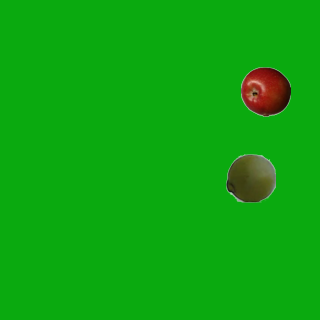Apple Braeburn: (240, 66, 290, 116)
Grape White 4: (225, 152, 275, 202)
